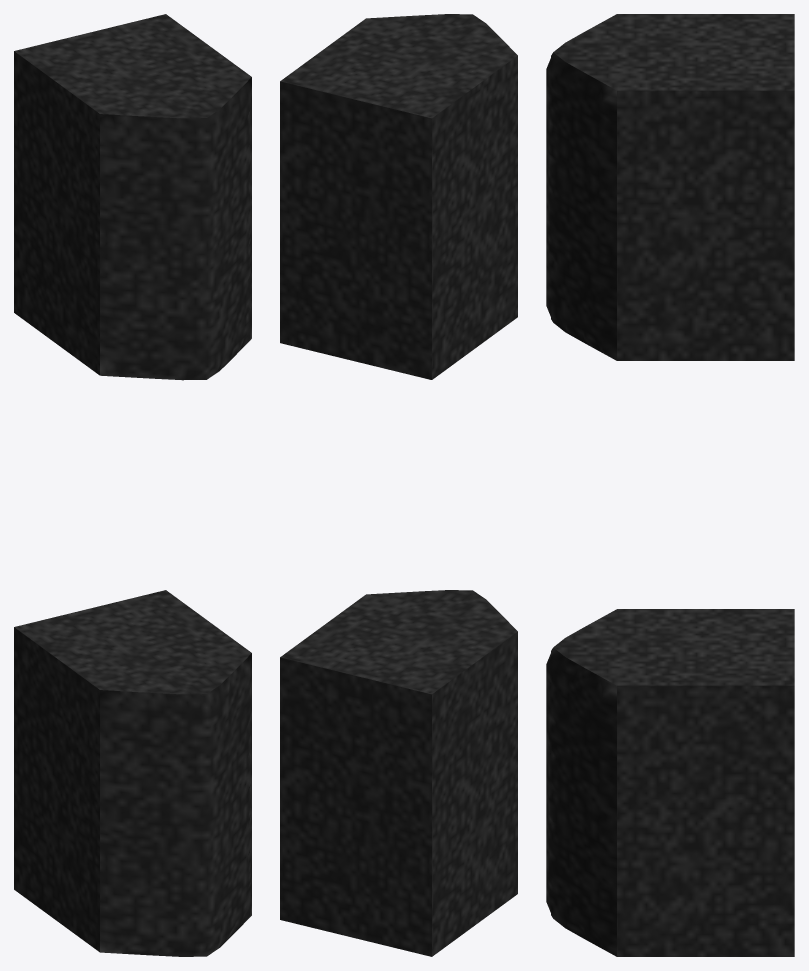
Rendered from colon.glb.
The picture shows the model from 3 angles, left to right: view 1: azimuth 30°, elevation 25°; view 2: azimuth 150°, elevation 25°; view 3: azimuth 270°, elevation 25°; orthographic projection. The views are drawn at different scales.
Parts seen in each view (by area): view 1: Glyph :; view 2: Glyph :; view 3: Glyph :.
Part boxes in pixels (x1,y1,x2,y2): Glyph :: (14, 14, 251, 956); Glyph :: (280, 14, 517, 956); Glyph :: (546, 14, 794, 956).
Size of the model in its own units: 0.4582 by 2.42 by 0.628.
1 material, 1 textured.
